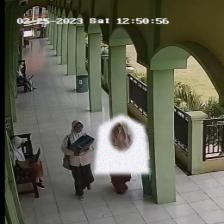Mukena: (94, 114, 150, 173)
